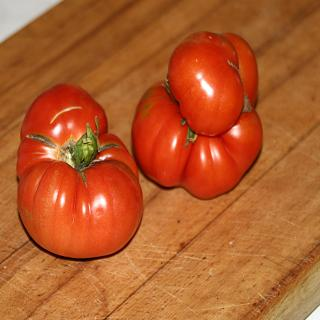tomato: (15, 82, 146, 262), (130, 32, 264, 200), (167, 29, 245, 138)
